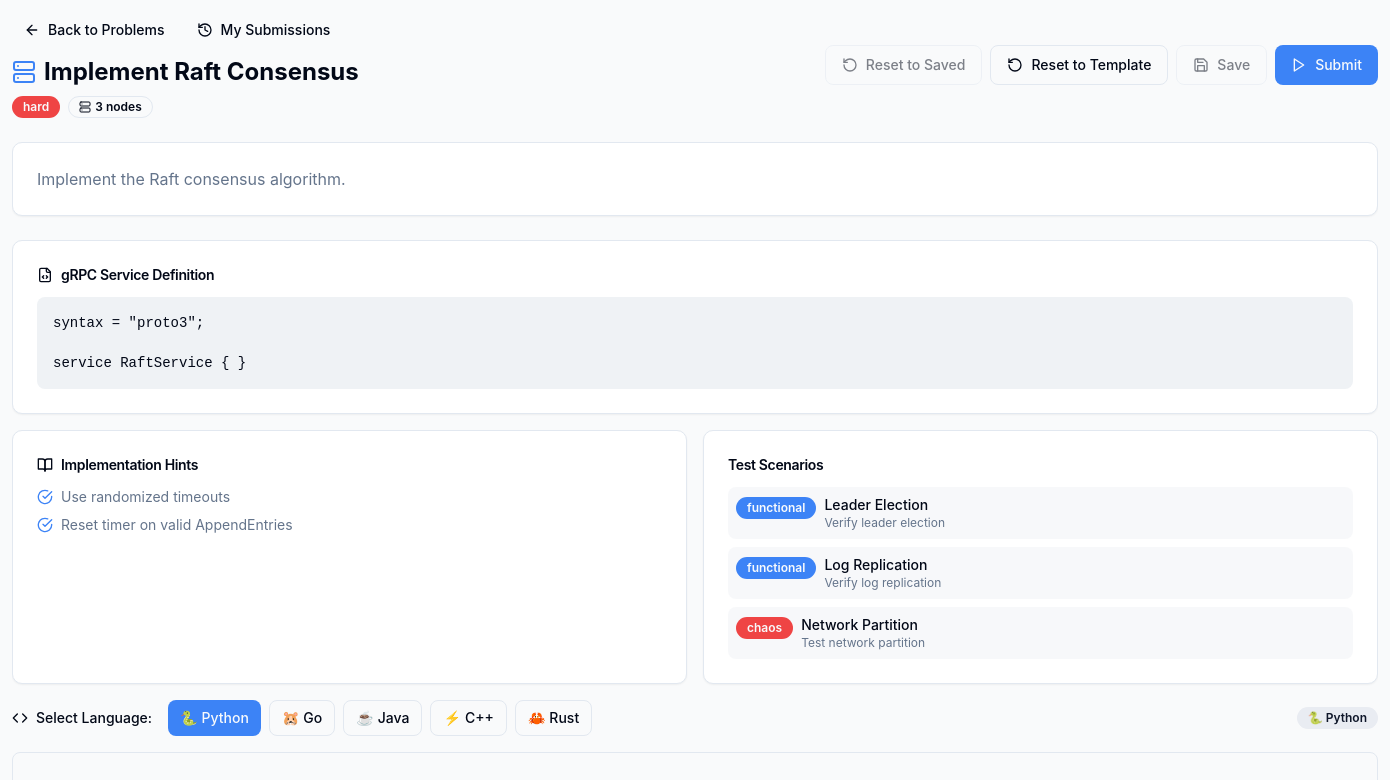
Test case: DistributedProblemDetail › Reset to Template › shows unsaved changes after reset
The width and height of the screenshot is (1390, 780).
Click the button "Reset to Template". click: (1079, 65)
box: [990,45,1168,85]
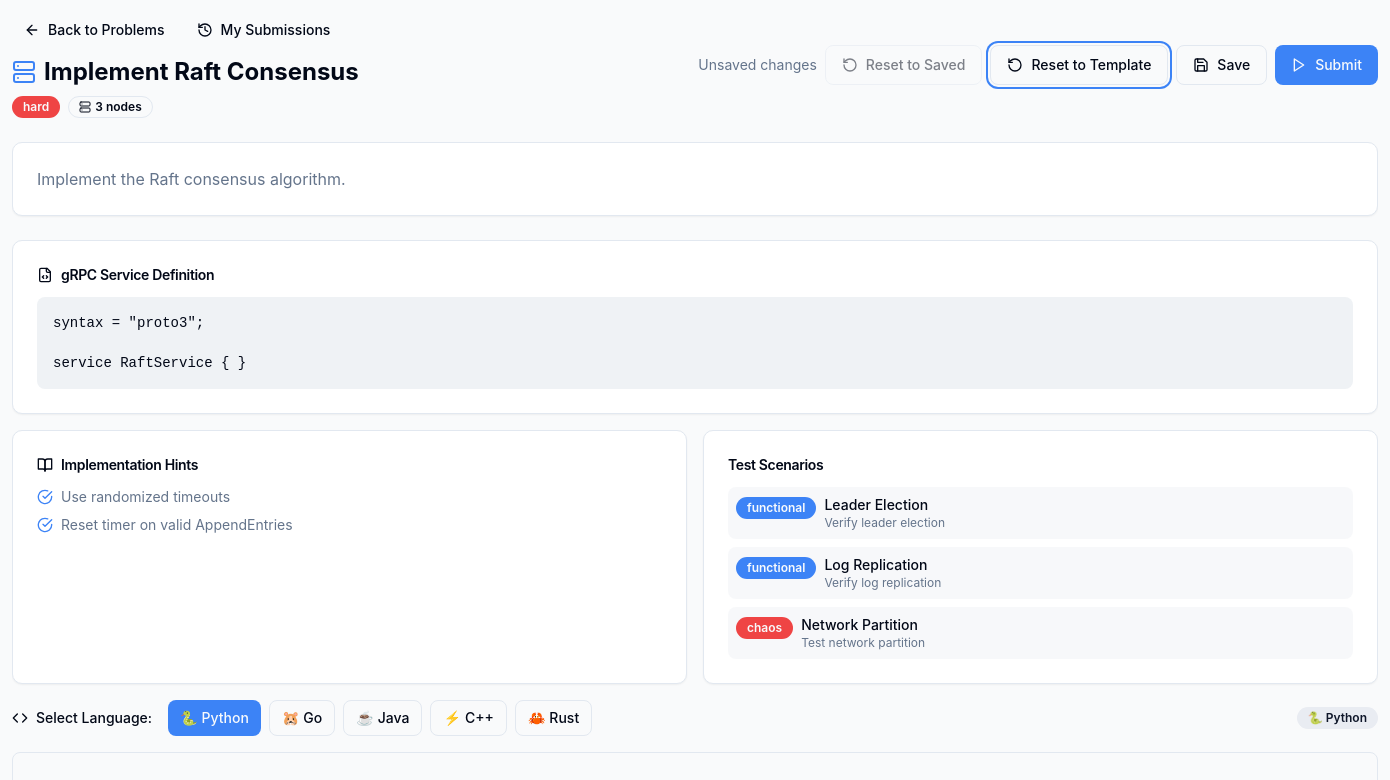
Expected: the text "Unsaved changes" is shown, [698,55,817,75]
